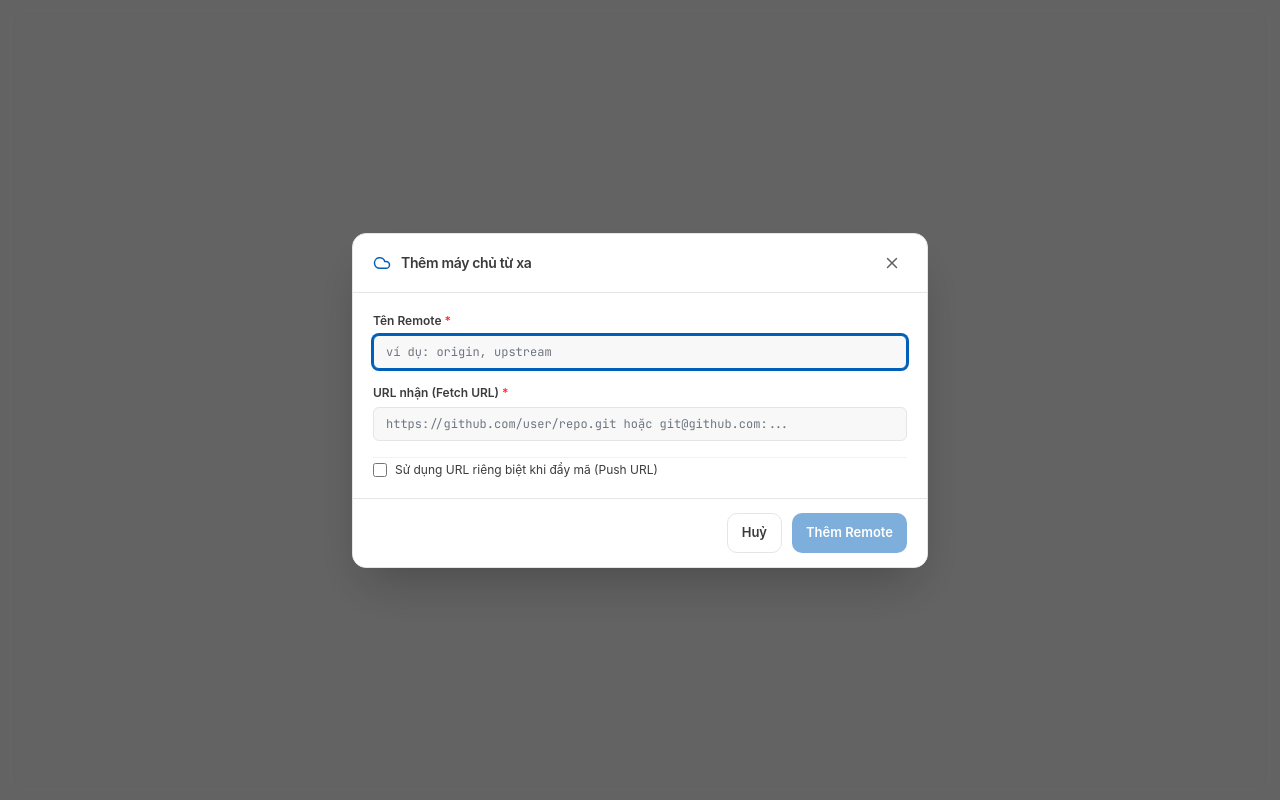
it: AddEditRemoteModal › rejects a name that starts with a dash
In the field labelled "Tên Remote *": (640, 352) x1=373 y1=334 x2=907 y2=368, type "-bad"
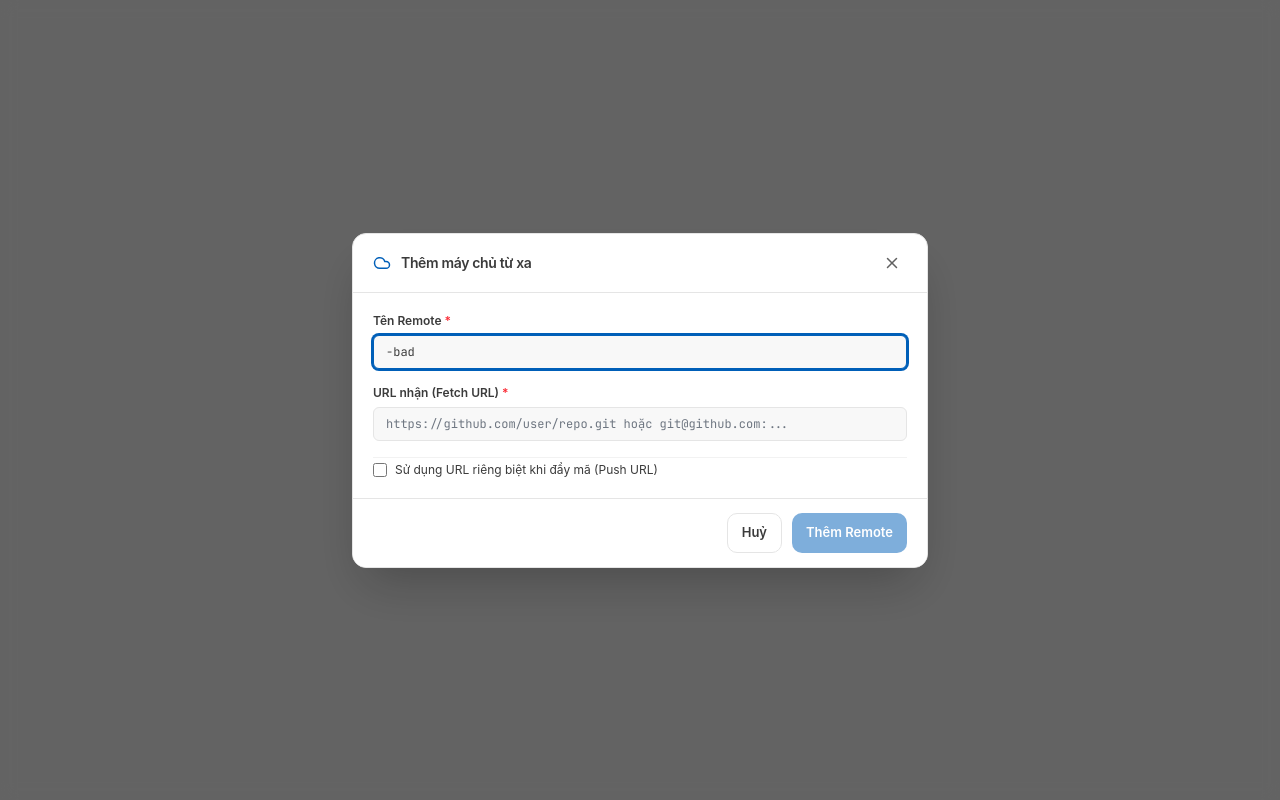
In the field labelled "URL nhận (Fetch URL) *": (640, 424) x1=373 y1=406 x2=907 y2=440, type "https://example.com/a.git"
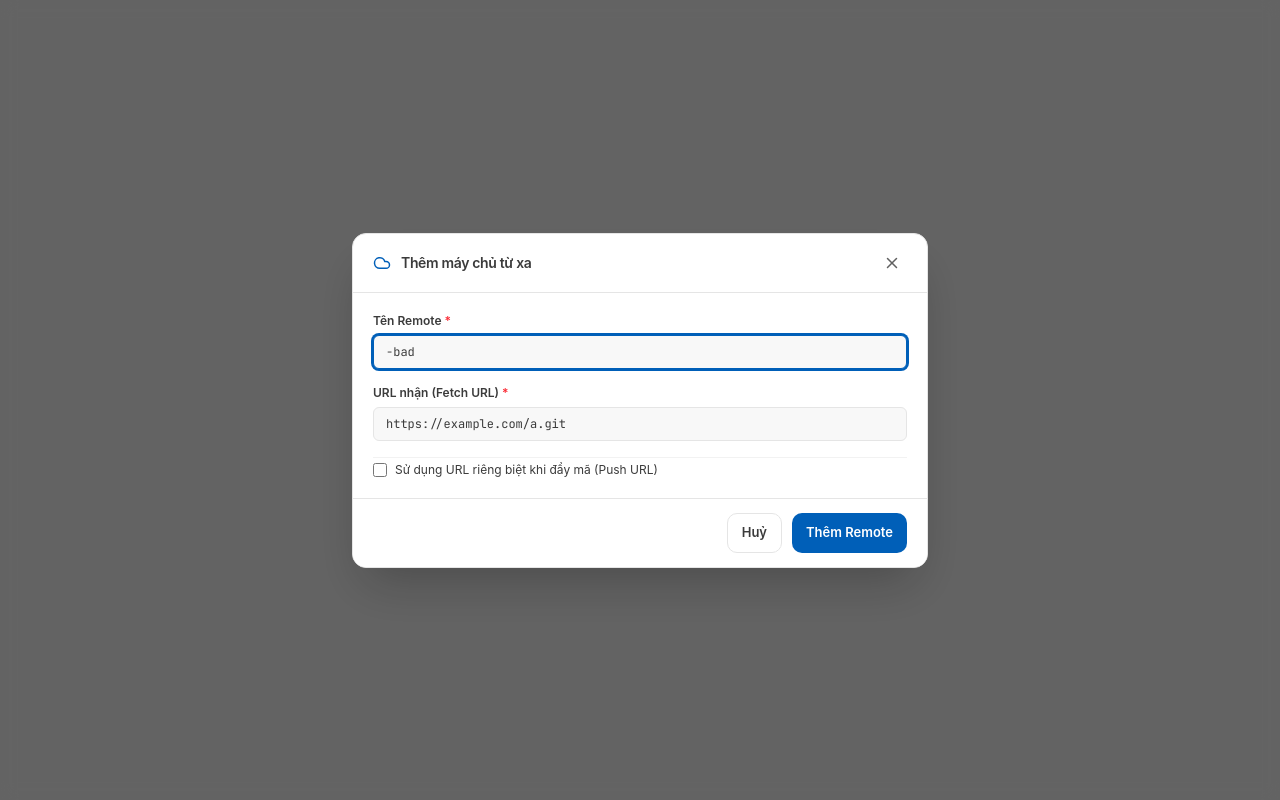
Click the button "Thêm Remote": (850, 532) x1=792 y1=512 x2=907 y2=552
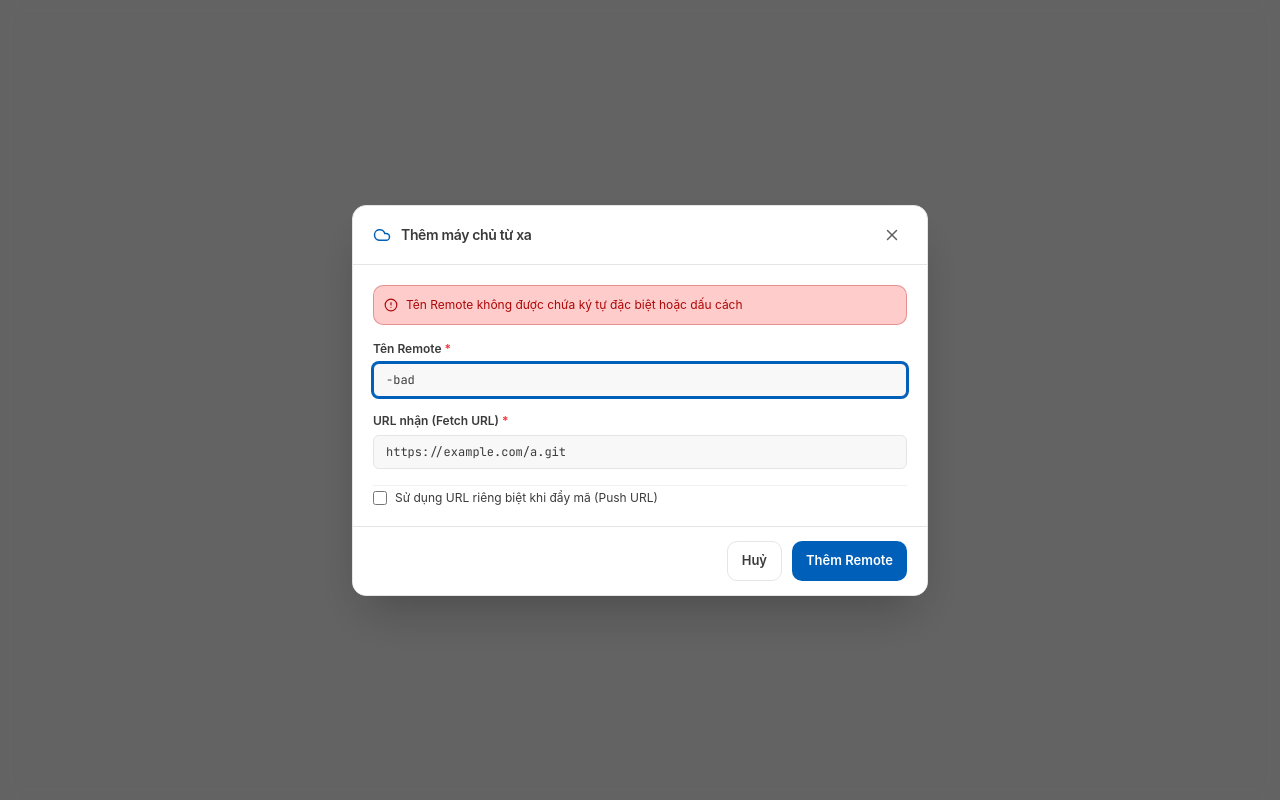
Expected: the text "Tên Remote không được chứa ký tự đặc biệt hoặc dấu cách" is shown, x1=406 y1=296 x2=743 y2=314
